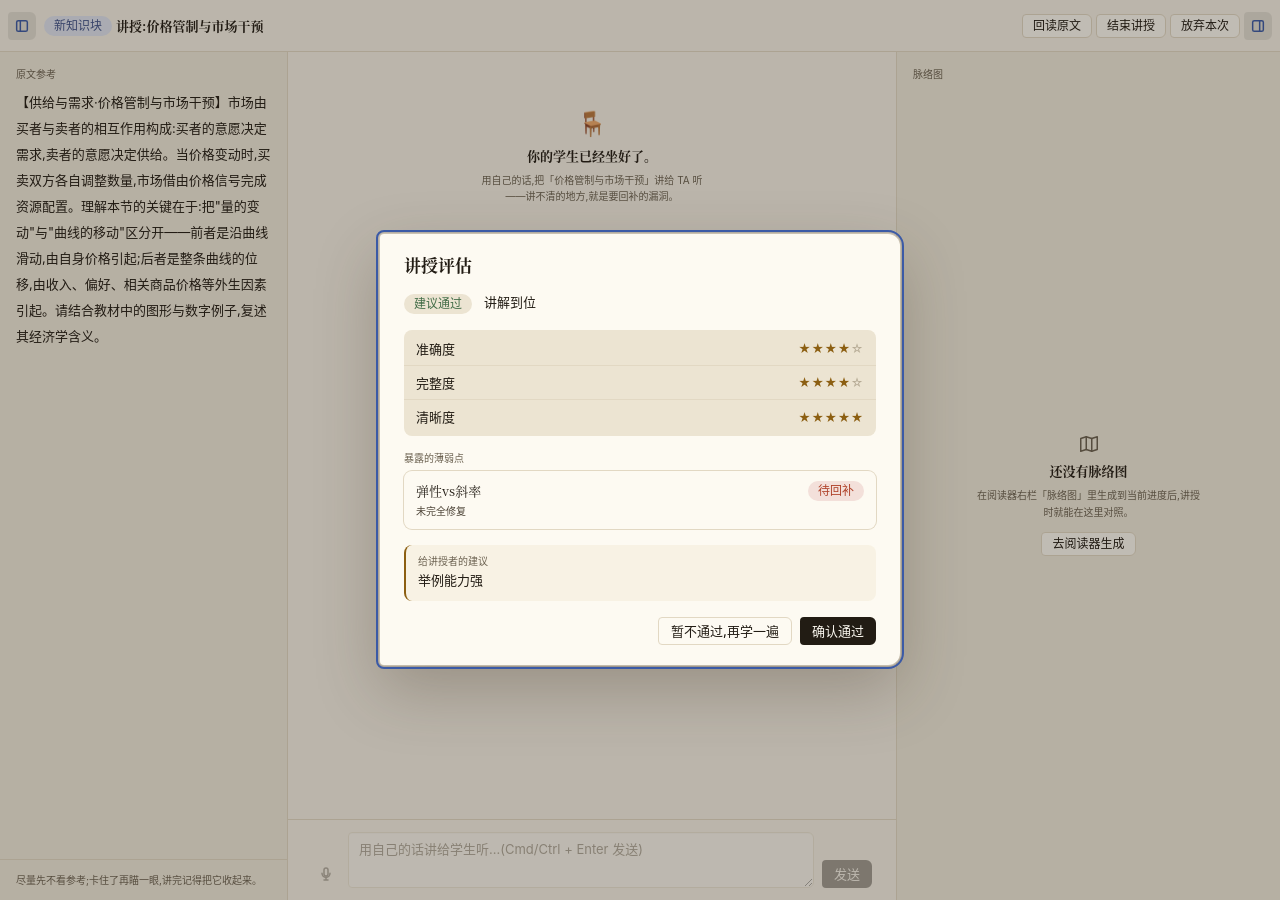
Test: 费曼对话页(契约 v2) › 已评估会话水合:直接出现评估卡,确认带水合版本
The width and height of the screenshot is (1280, 900).
Expected: the text "弹性vs斜率" is shown, [416,483,481,499]
Click the button "确认通过": (838, 632) [800,618,876,646]
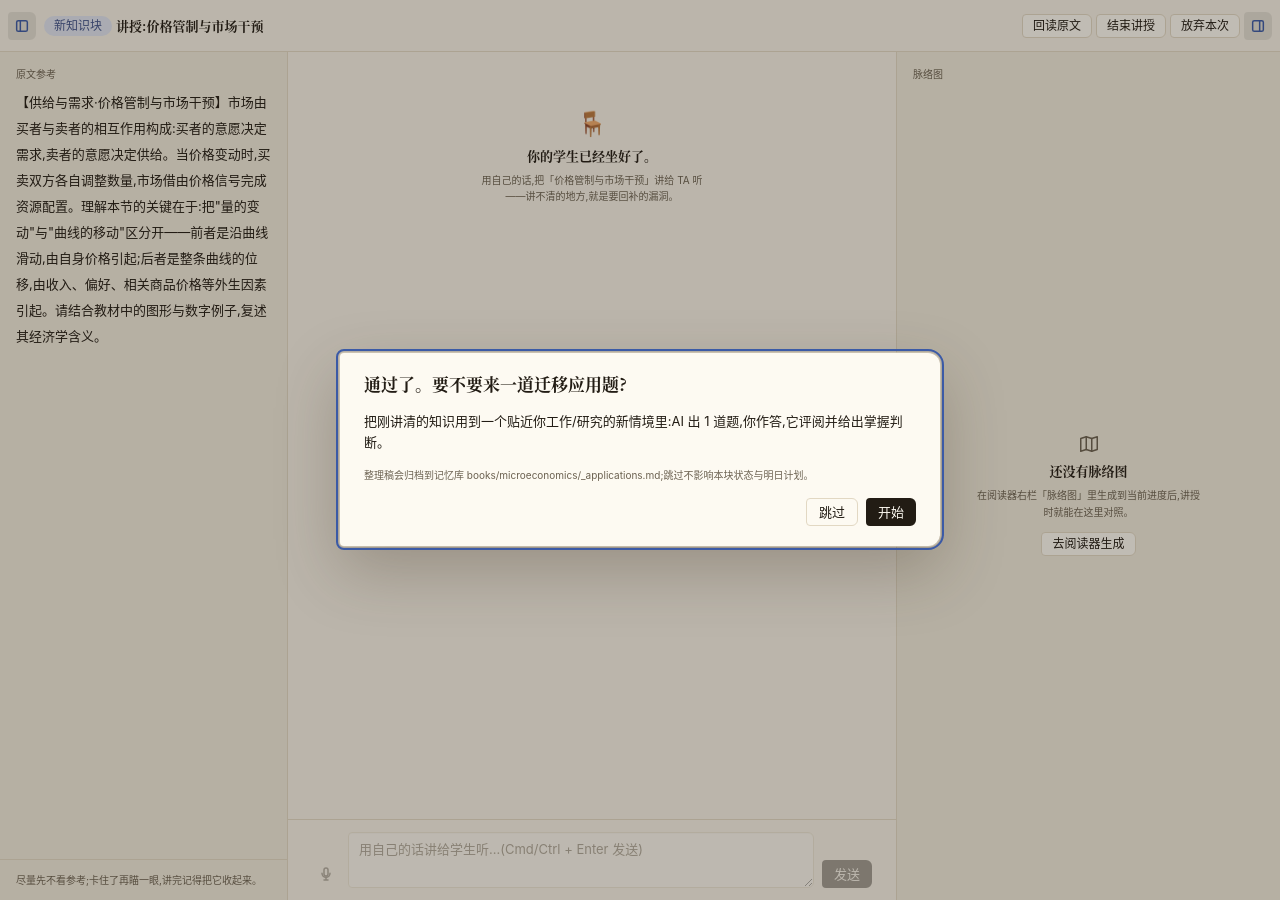
Result: the dialog named "附加环节" is shown at [340,353,940,547]
